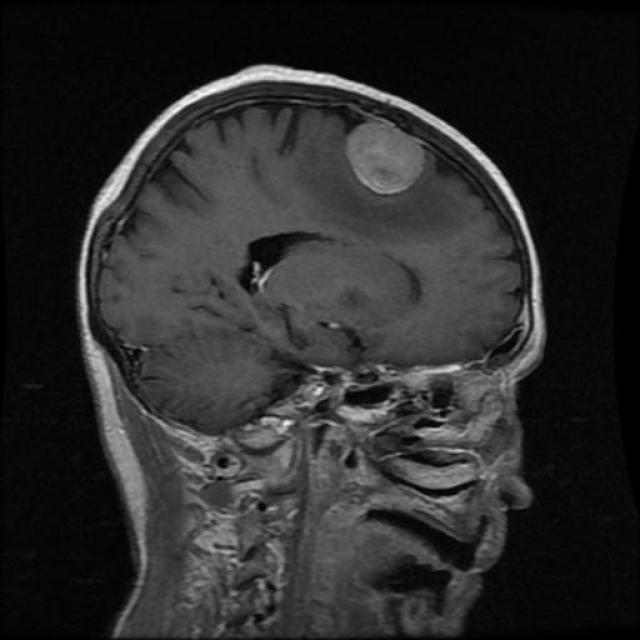meningioma: (346, 121, 428, 194)
